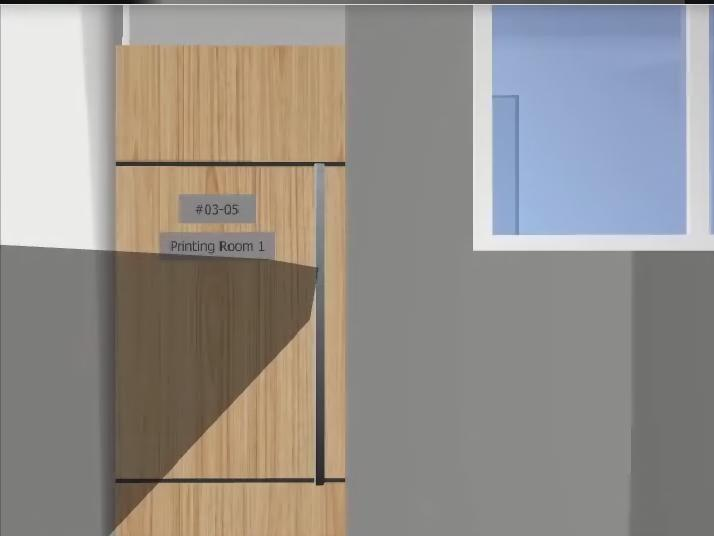door: (114, 43, 346, 536)
